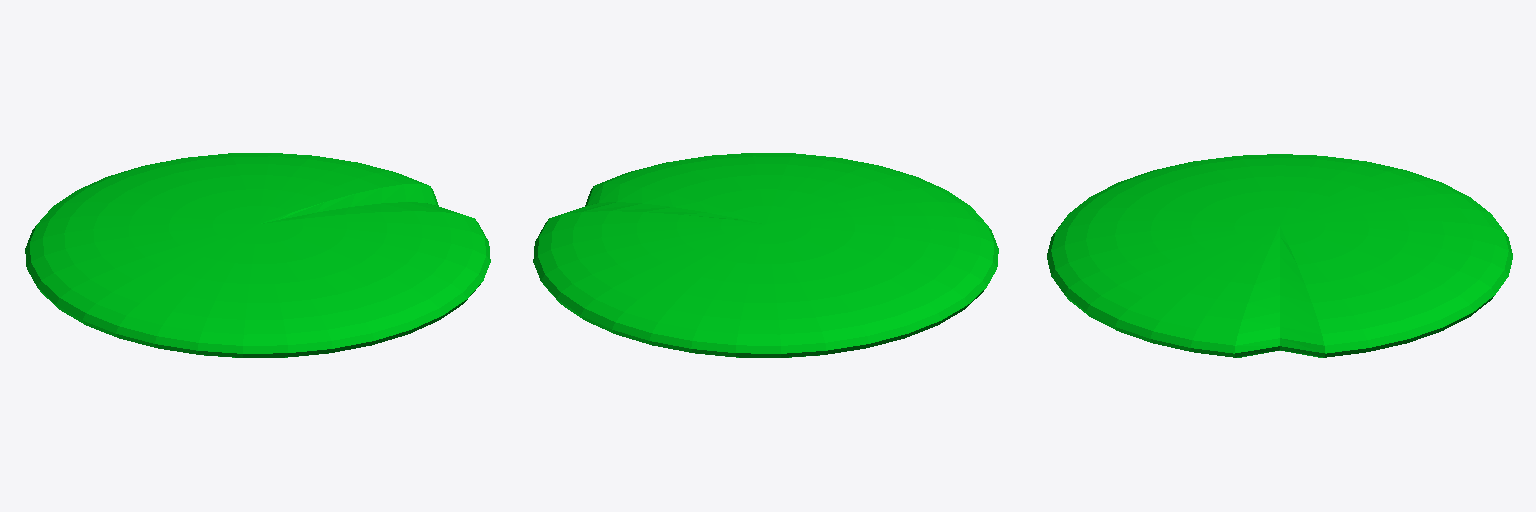
Rendered from leaf.obj.
3 views of the same model, side by side, from view 1: azimuth 30°, elevation 25°; view 2: azimuth 150°, elevation 25°; view 3: azimuth 270°, elevation 25° (orthographic).
Visible parts, largest first — view 1: Sphere; view 2: Sphere; view 3: Sphere.
Boxes of the visible parts, <box> form: Sphere: <box>25,153,490,357</box>; Sphere: <box>533,153,998,357</box>; Sphere: <box>1047,154,1512,357</box>.
Size of the model in its own units: 1.98 by 0.2937 by 2.